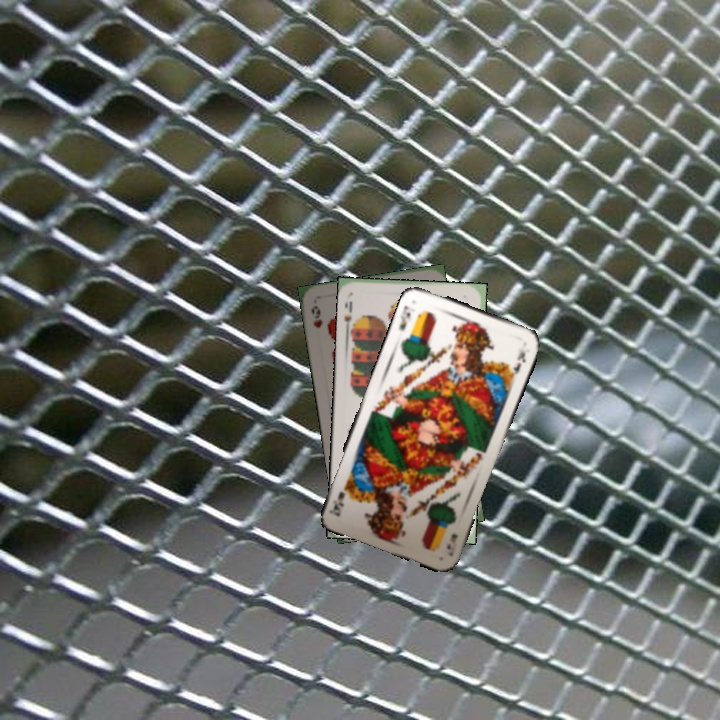EK: (395, 301, 418, 333), (442, 530, 460, 559)
H9: (307, 302, 325, 330)
S9: (340, 297, 359, 333)
